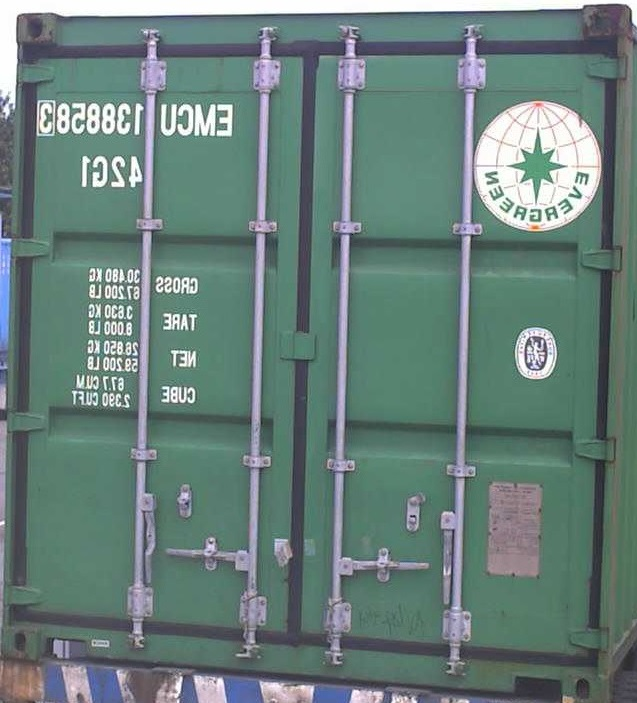container_door: (3, 1, 629, 671)
